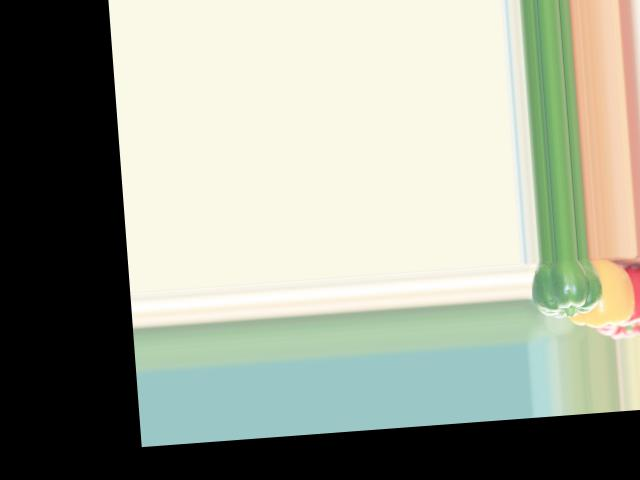bell_pepper: (591, 256, 640, 340)
